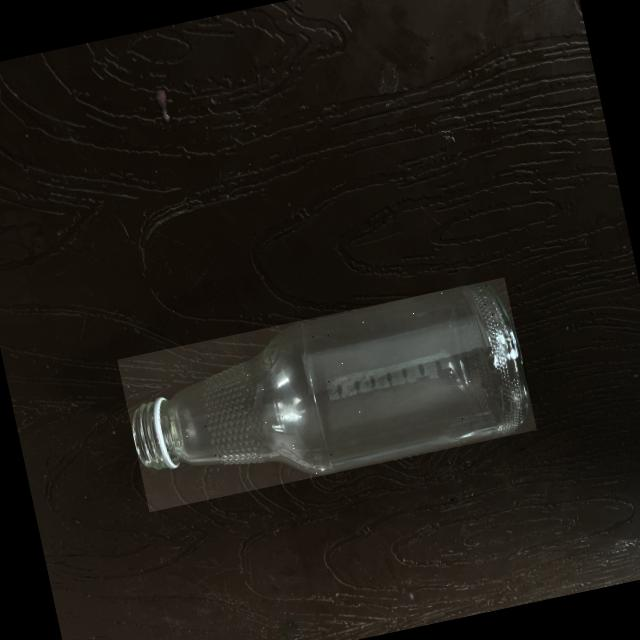Glass_Bottle: (133, 284, 527, 473)
